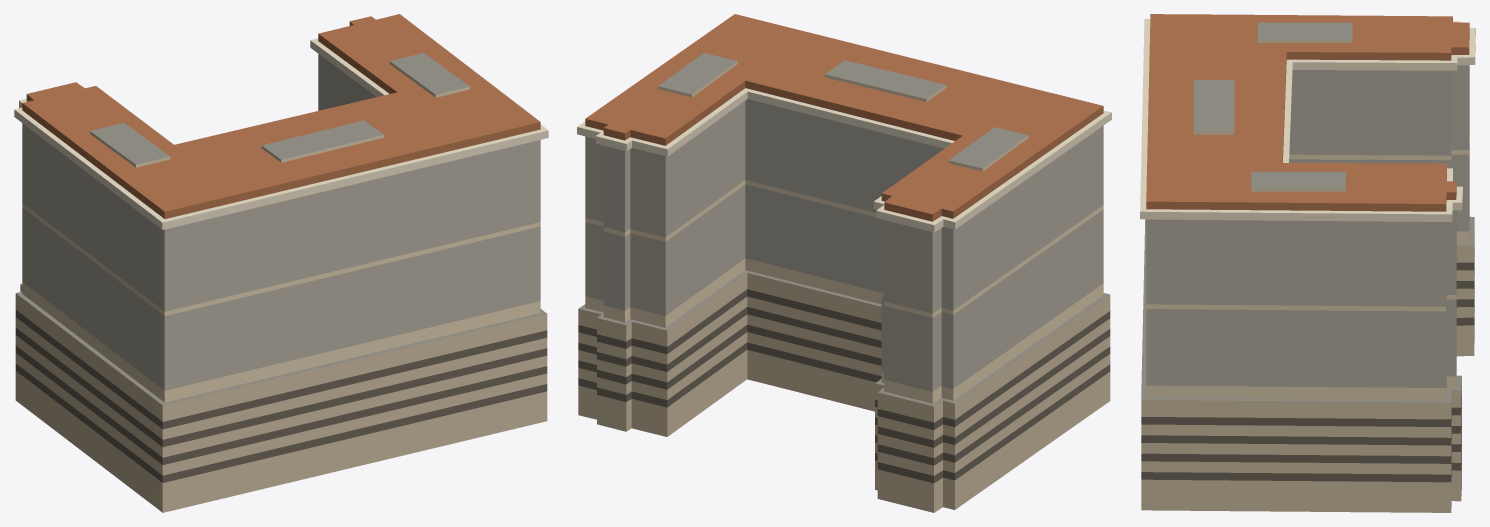
Rendered from venezia_tower_w111322067.glb.
The picture shows the model from 3 angles, left to right: view 1: azimuth 30°, elevation 25°; view 2: azimuth 150°, elevation 25°; view 3: azimuth 270°, elevation 25°; orthographic projection. The views are drawn at different scales.
Parts seen in each view (by area): view 1: Tower_w111322067; view 2: Tower_w111322067; view 3: Tower_w111322067.
Boxes of the visible parts, left/top/right/bottom form: Tower_w111322067: left=14, top=14, right=548, bottom=512; Tower_w111322067: left=577, top=14, right=1111, bottom=512; Tower_w111322067: left=1140, top=14, right=1475, bottom=512.
Size of the model in its own units: 137 by 101 by 99.21.
